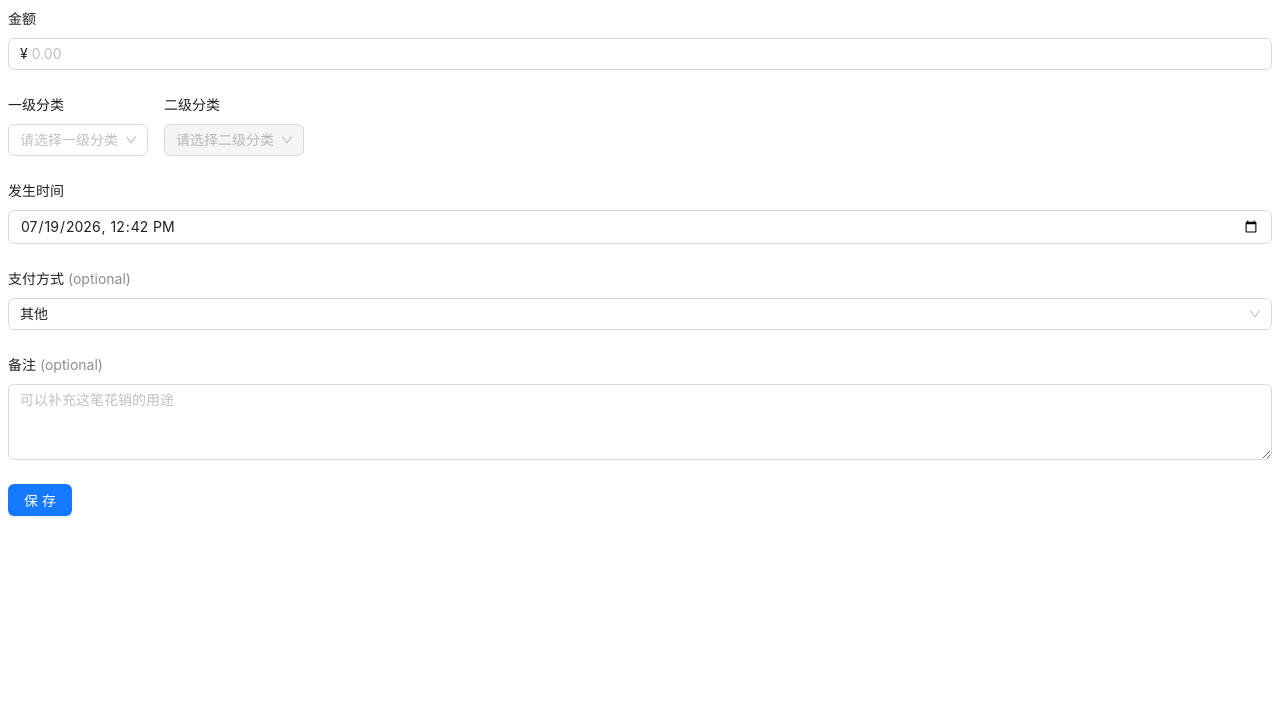
Scenario: 记一笔表单 › 金额为空时不提交并显示校验提示
Click the button "保 存": (40, 500) x1=8 y1=484 x2=72 y2=516
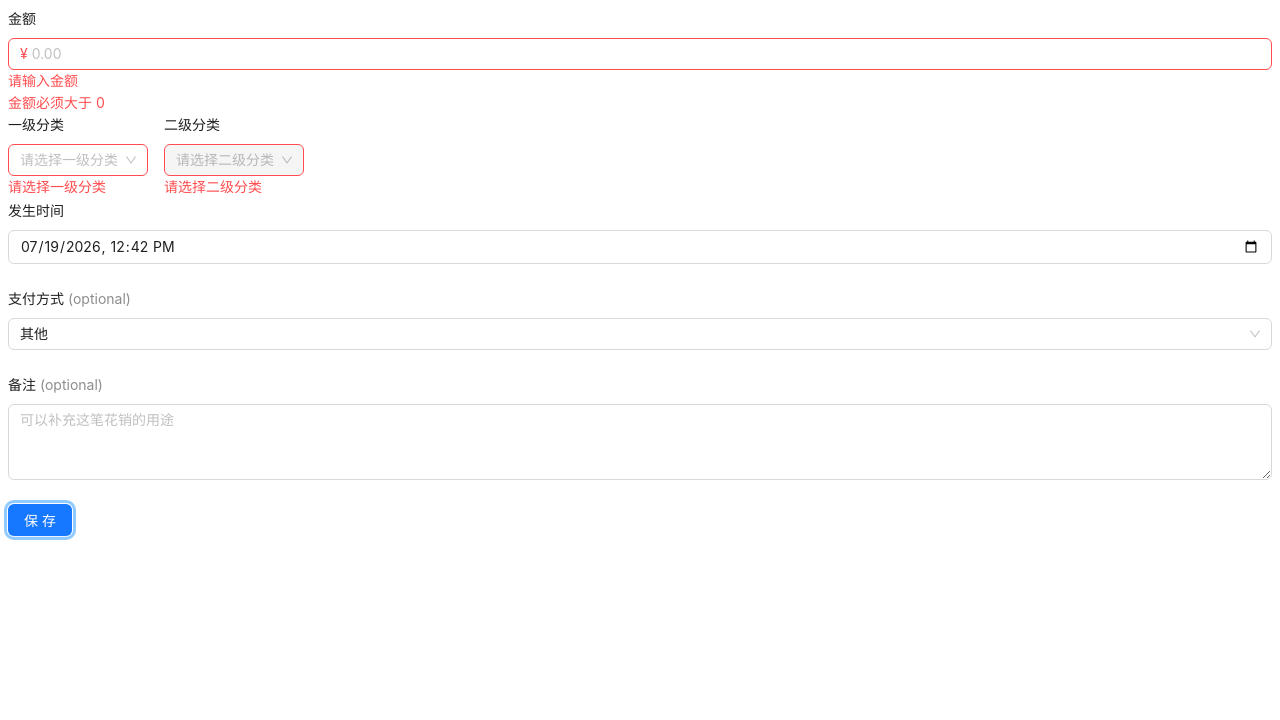
Expected: the text "请输入金额" is shown, x1=8 y1=72 x2=78 y2=89
